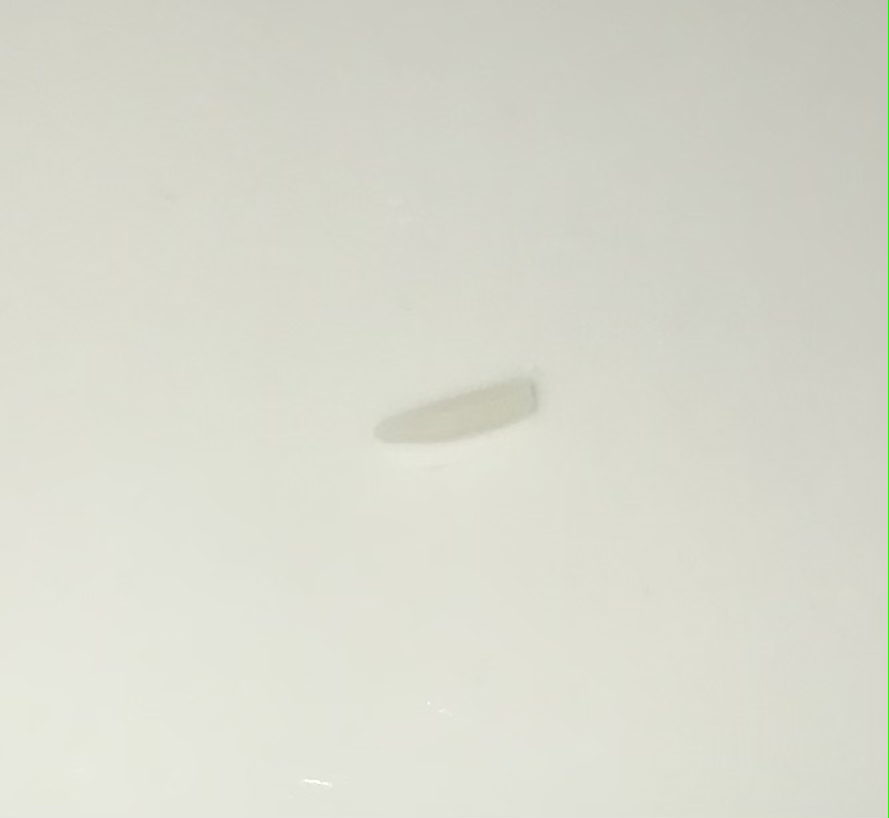Gao Thom Go Cong: (380, 372, 554, 449)
